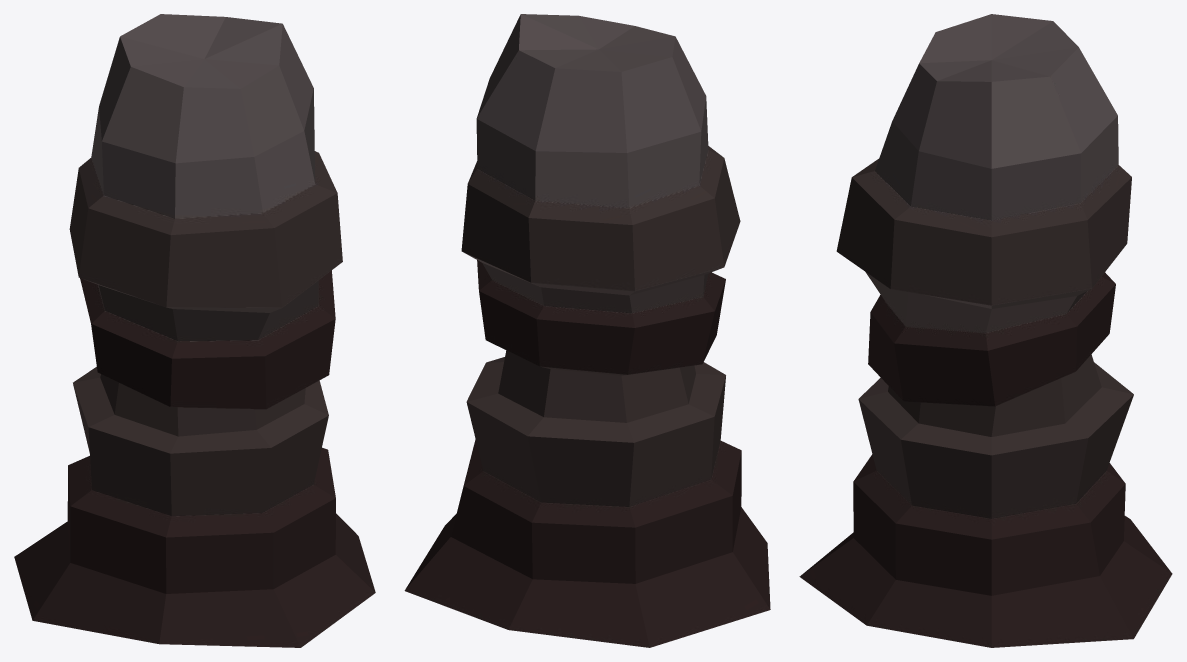
Rendered from lavaRockPillar.obj.
3 renders of one model, left to right at view 1: azimuth 30°, elevation 25°; view 2: azimuth 150°, elevation 25°; view 3: azimuth 270°, elevation 25°, orthographic.
Visible parts, largest first — view 1: Pillar; view 2: Pillar; view 3: Pillar.
Boxes of the visible parts, bbox=[...] form: Pillar: bbox=[14, 14, 375, 647]; Pillar: bbox=[404, 14, 770, 647]; Pillar: bbox=[799, 14, 1172, 647].
Size of the model in its own units: 11.32 by 18.11 by 11.25.
1 material, 1 textured.
